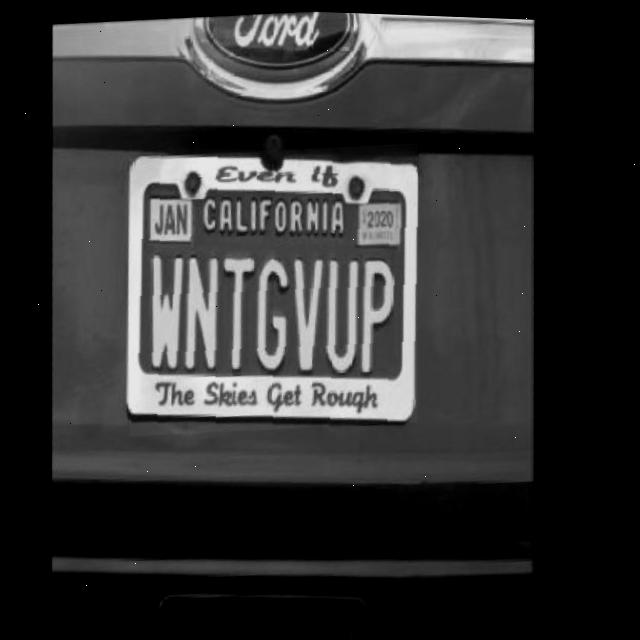LicensePlate: (113, 131, 444, 443)
